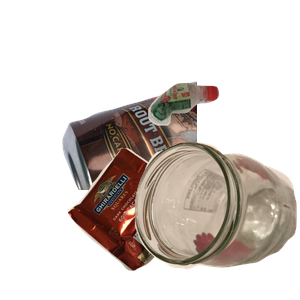glass: (132, 139, 300, 300)
metal: (60, 79, 300, 259)
plastic: (146, 80, 300, 198)
trash: (65, 145, 242, 300)
